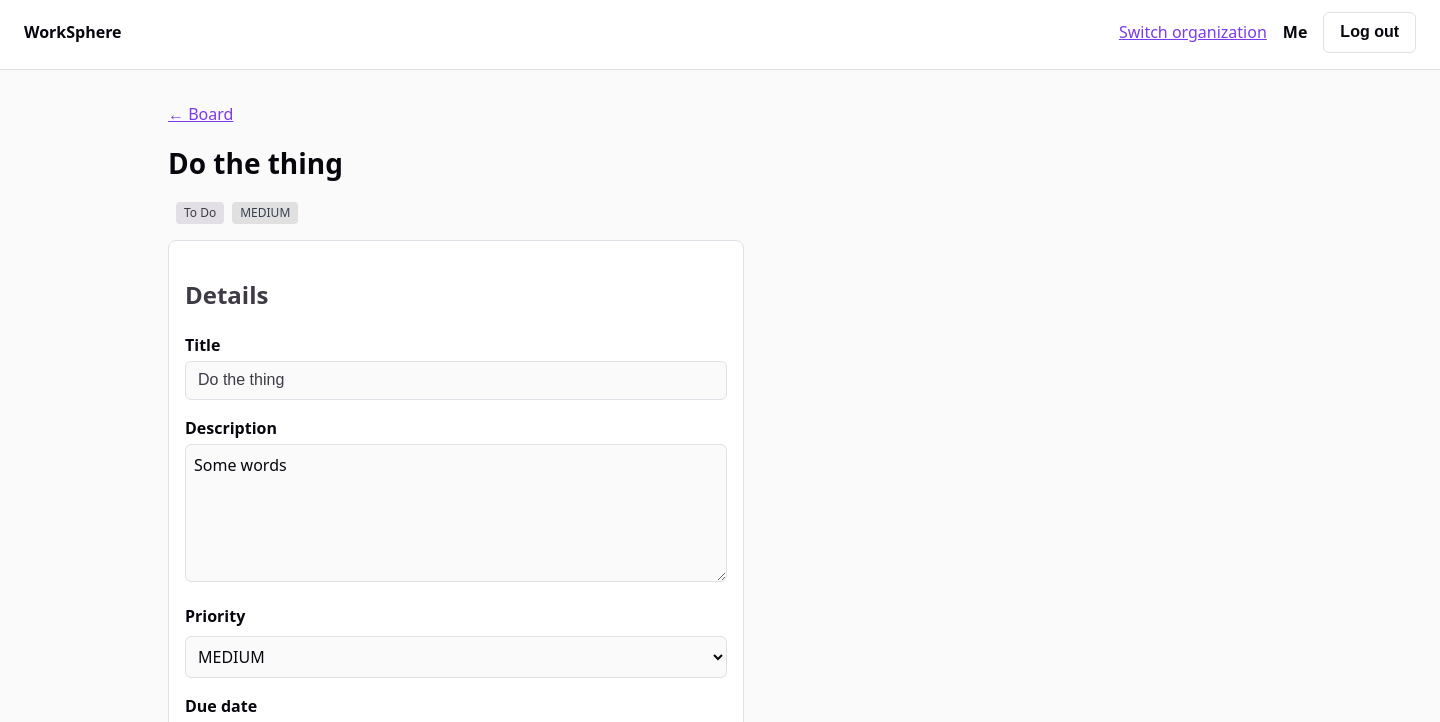
Scenario: TaskDetailsPage › saves edits, sending the current version for optimistic locking
The width and height of the screenshot is (1440, 722).
Step 1. Replace the text in the field labelled "Title" with "Renamed" → (456,380), box [185,361,727,400]
(page scrolled)
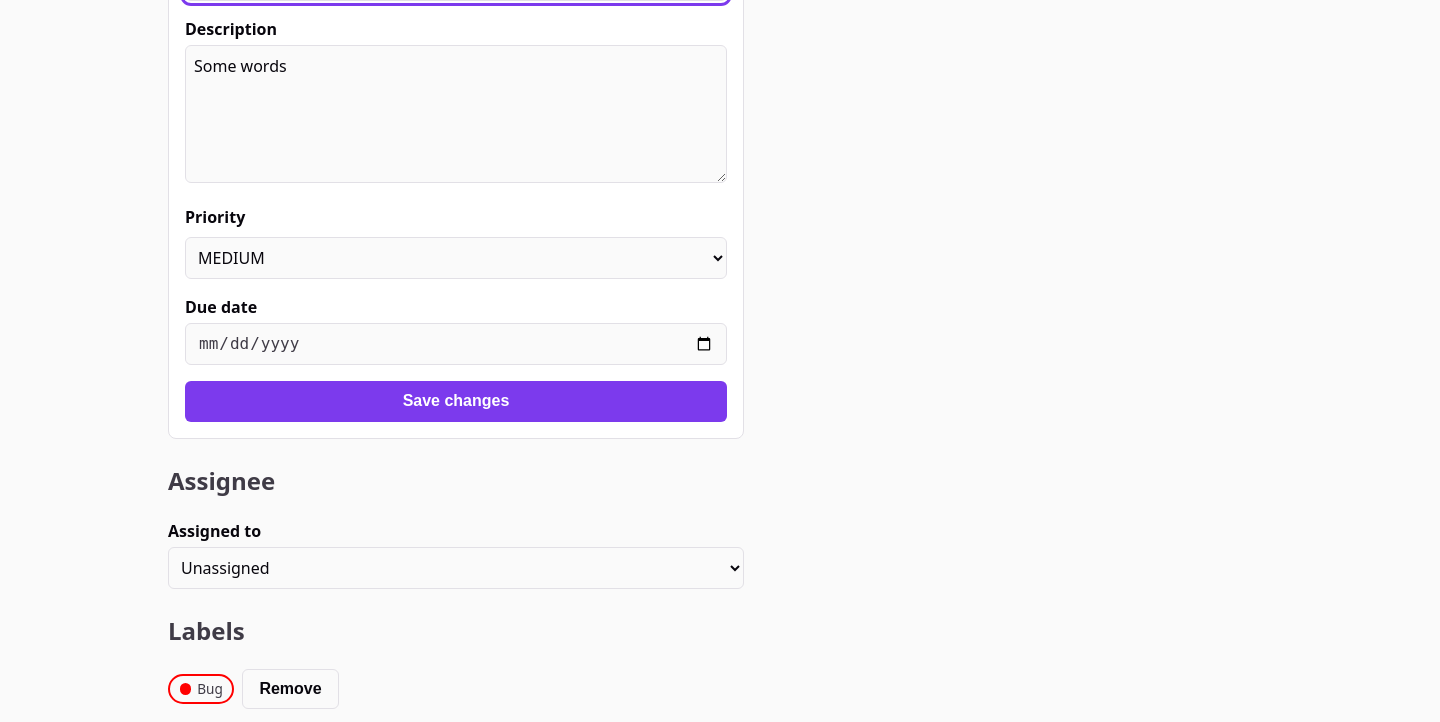
Step 2. Click the button "Save changes" → (456,401), box [185,381,727,422]
(page scrolled)
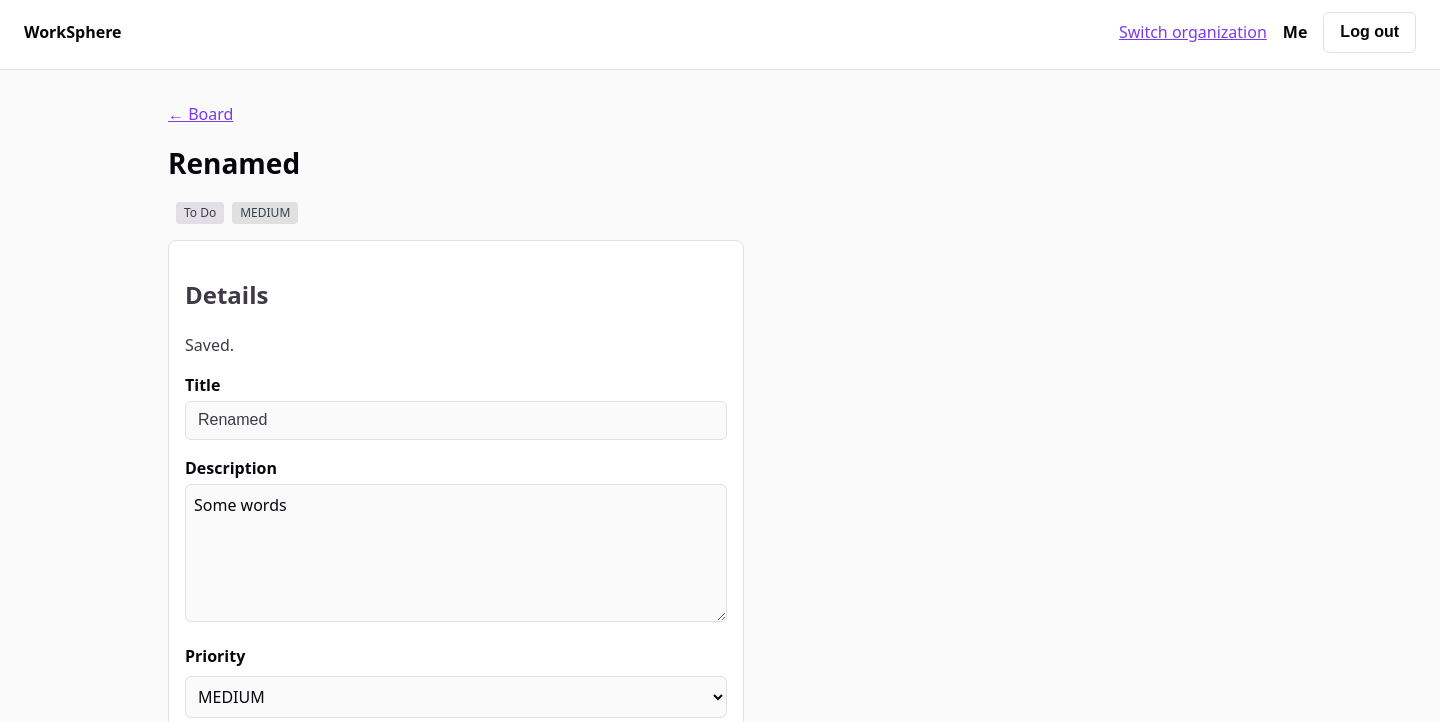
Expected: the text "Saved." is shown, [185,334,234,356]
